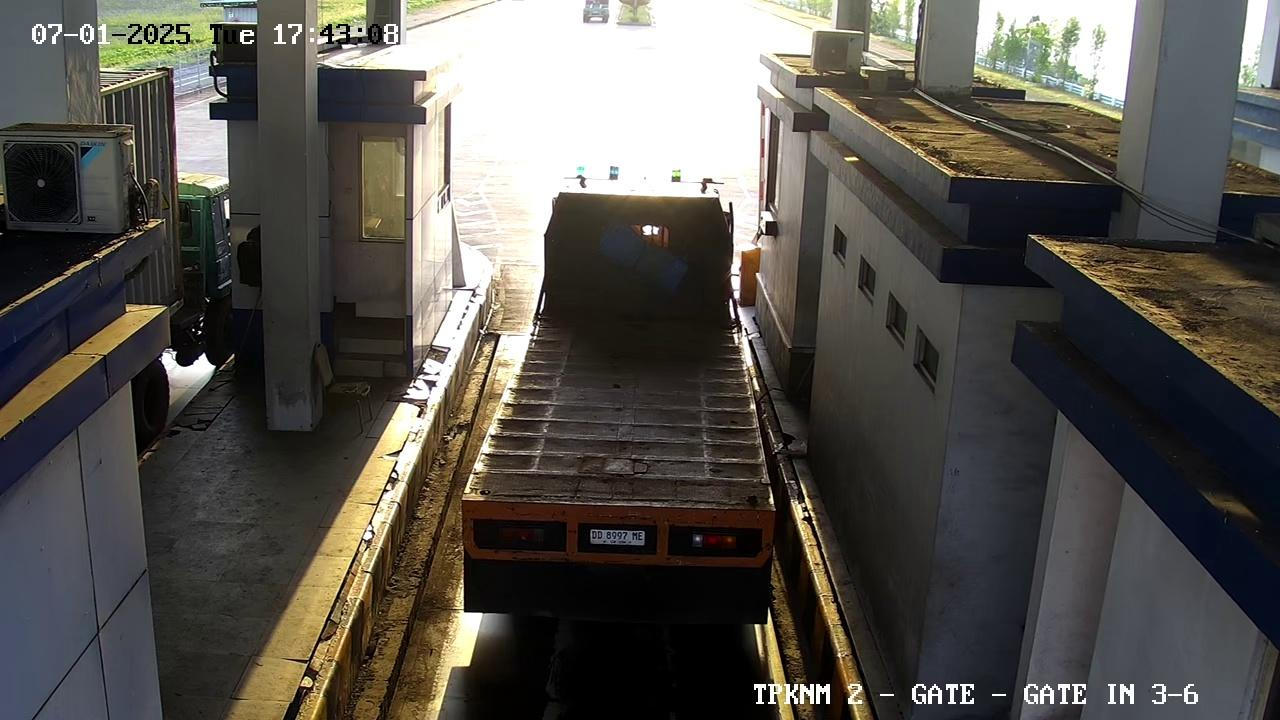plate_number: (579, 513, 651, 558)
